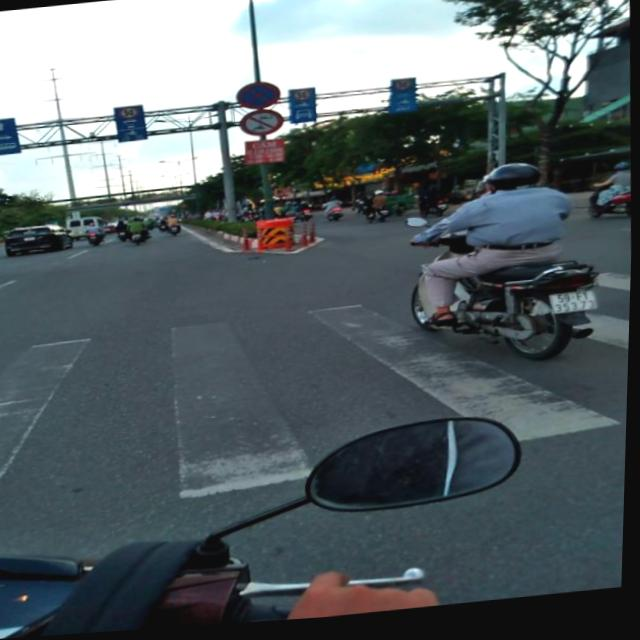Cam dung xe va do xe: (235, 82, 281, 115)
Toc do toi da cho phep: (291, 92, 313, 106), (118, 108, 139, 121), (394, 84, 413, 97)
